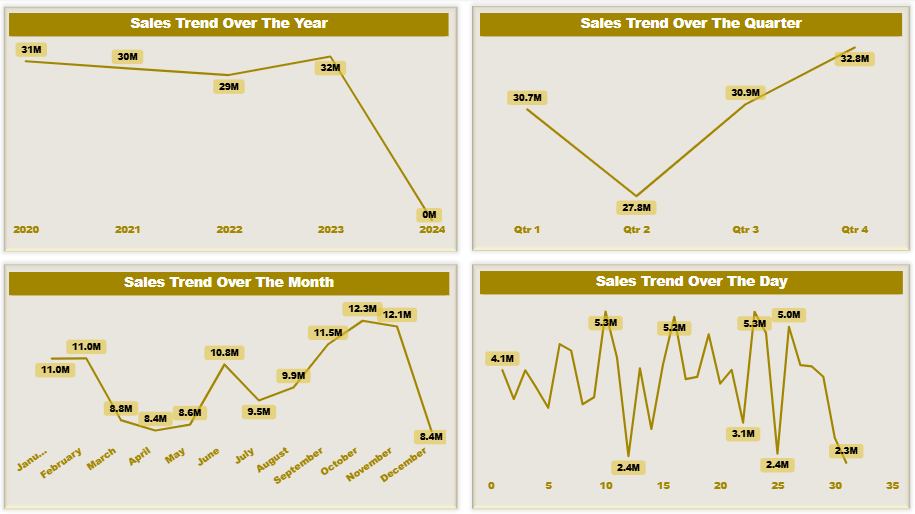

The dashboard page shown, as its layout file describes it:
{"tool":"powerbi","page":{"name":"MARKET OVERVIEW","canvas":[1280,720],"ordinal":1},"visuals":[{"type":"lineChart","title":"Sales Trend Over The  Year","fields":{"Category":["Fact Table.Date (dd/mm/yyyy).Variation.Date Hierarchy.Year"],"Y":["Sum(Fact Table.Net Sales)"]},"box":[23.3,20,605,318.3],"z":0},{"type":"lineChart","title":"Sales Trend Over The  Quarter","fields":{"Category":["Fact Table.Date (dd/mm/yyyy).Variation.Date Hierarchy.Quarter"],"Y":["Sum(Fact Table.Net Sales)"]},"box":[671.7,20.6,580.8,317.9],"z":1000},{"type":"lineChart","title":"Sales Trend Over The  Month","fields":{"Category":["Fact Table.Date (dd/mm/yyyy).Variation.Date Hierarchy.Month"],"Y":["Sum(Fact Table.Net Sales)"]},"box":[23.4,377.1,605.6,315.2],"z":2000},{"type":"lineChart","title":"Sales Trend Over The  Day","fields":{"Category":["Fact Table.Date (dd/mm/yyyy).Variation.Date Hierarchy.Day"],"Y":["Sum(Fact Table.Net Sales)"]},"box":[671.7,375.7,582.2,315.2],"z":3000}]}

Visuals, with their boxes in screenshot pixels (x1, y1, x2, y2), scaled from the page's 1280x720 canvas onto the 915x514 screenshot:
"Sales Trend Over The  Year" lineChart: Rect(17, 14, 449, 242)
"Sales Trend Over The  Quarter" lineChart: Rect(480, 15, 895, 242)
"Sales Trend Over The  Month" lineChart: Rect(17, 269, 450, 494)
"Sales Trend Over The  Day" lineChart: Rect(480, 268, 896, 493)
